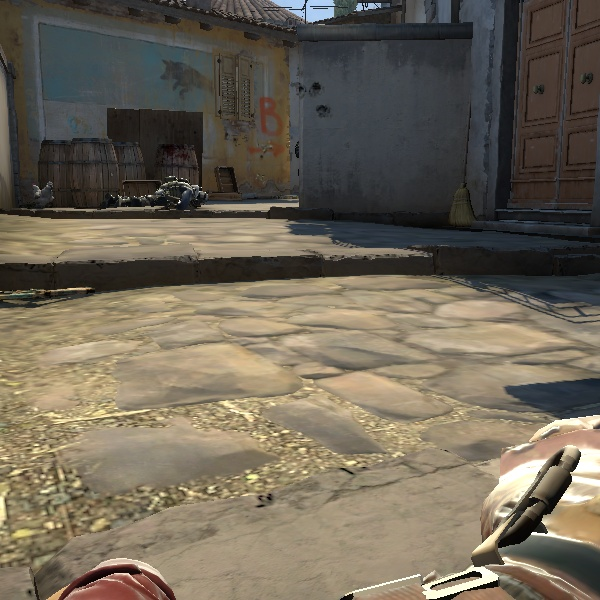ct_body: (145, 175, 203, 215)
